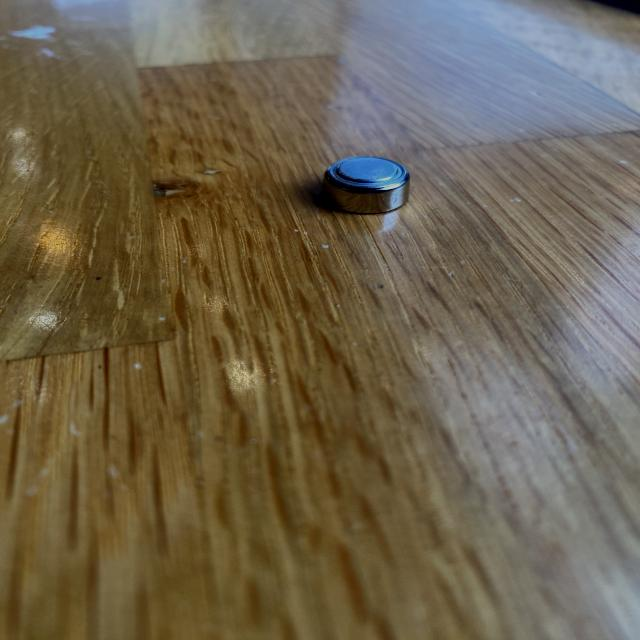COIN: (321, 155, 410, 214)
